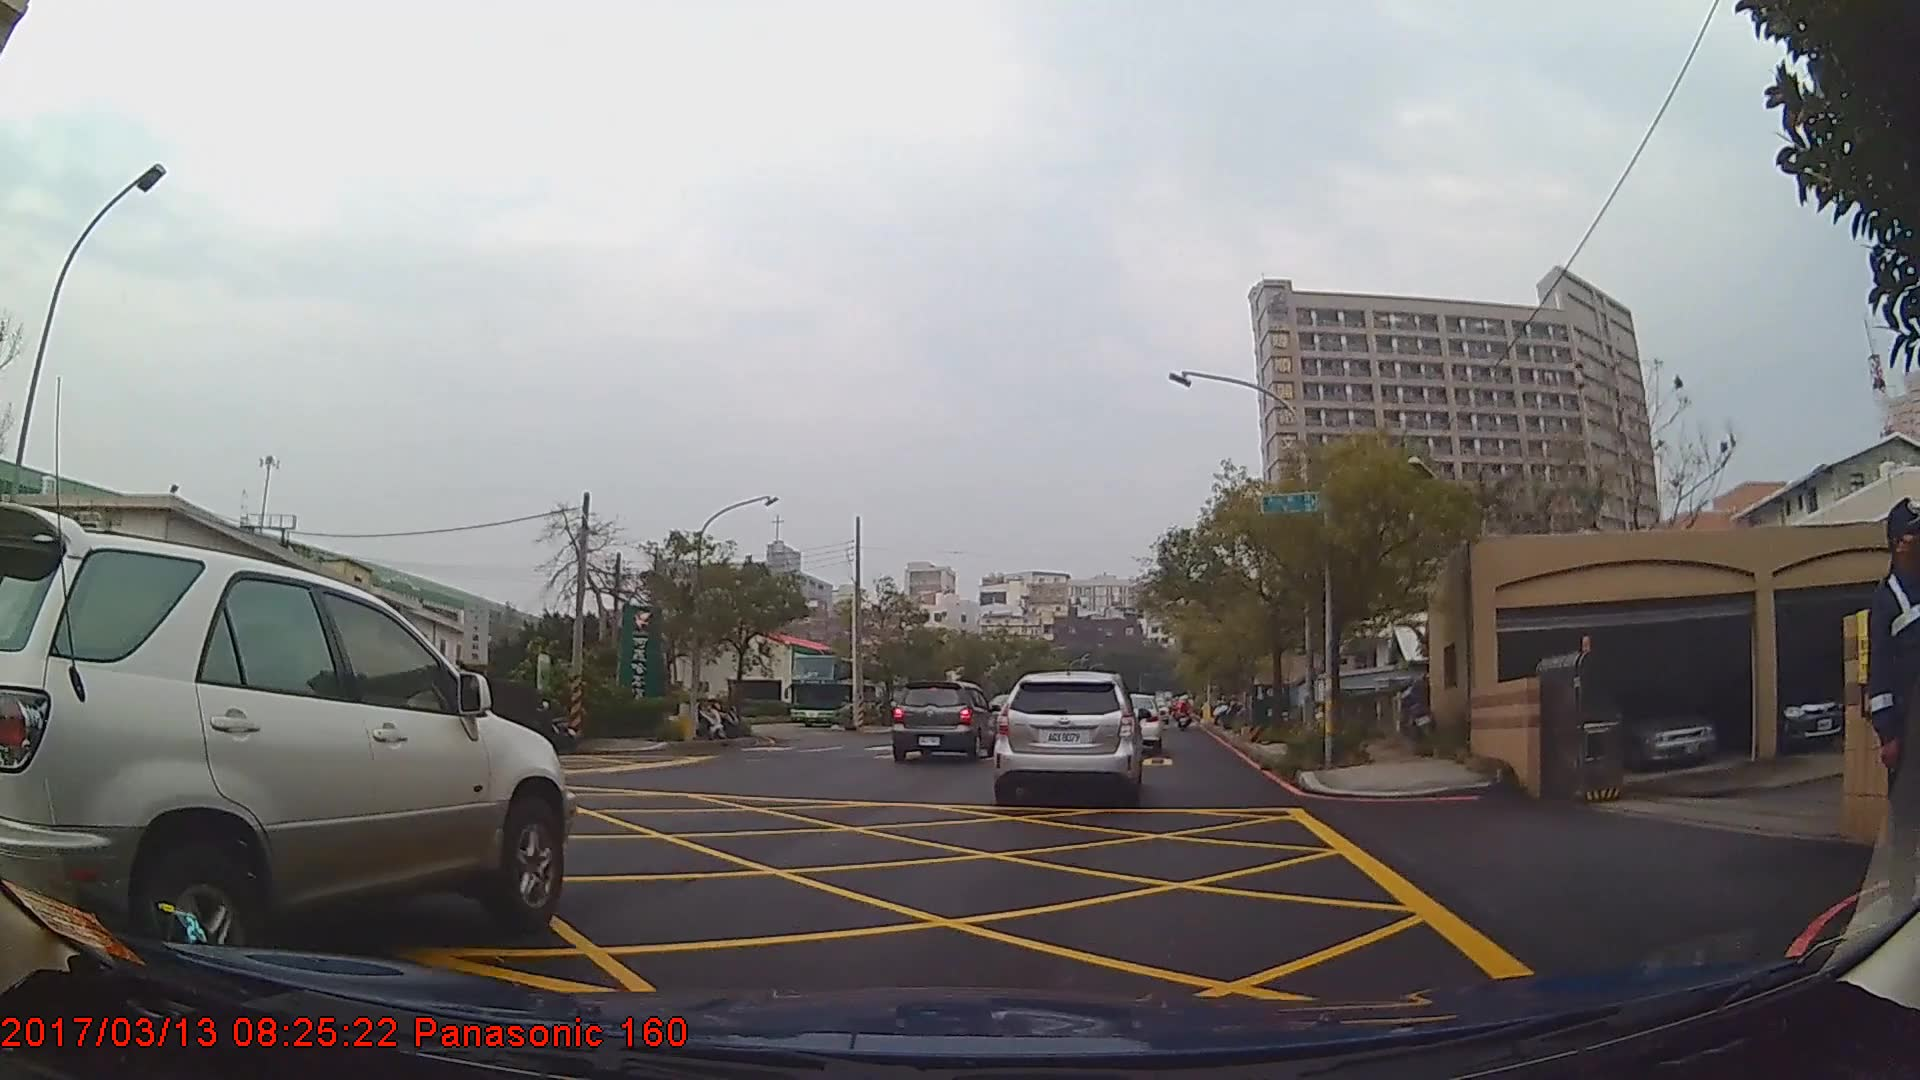pedestrian: (1860, 494, 1920, 925)
vehicle: (0, 502, 573, 984), (992, 672, 1147, 807), (1603, 685, 1726, 768), (890, 681, 1000, 761), (789, 659, 893, 735)
